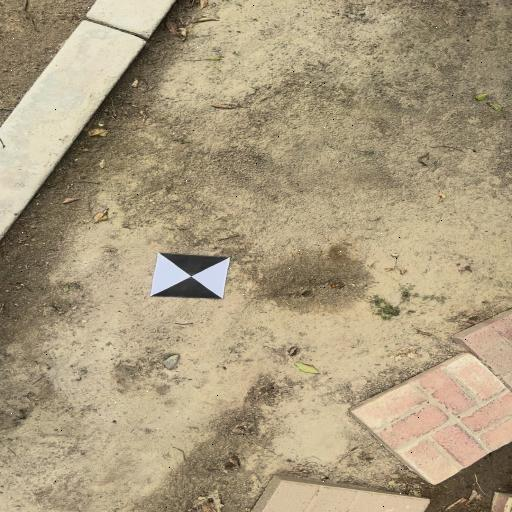target: (149, 253, 231, 300)
